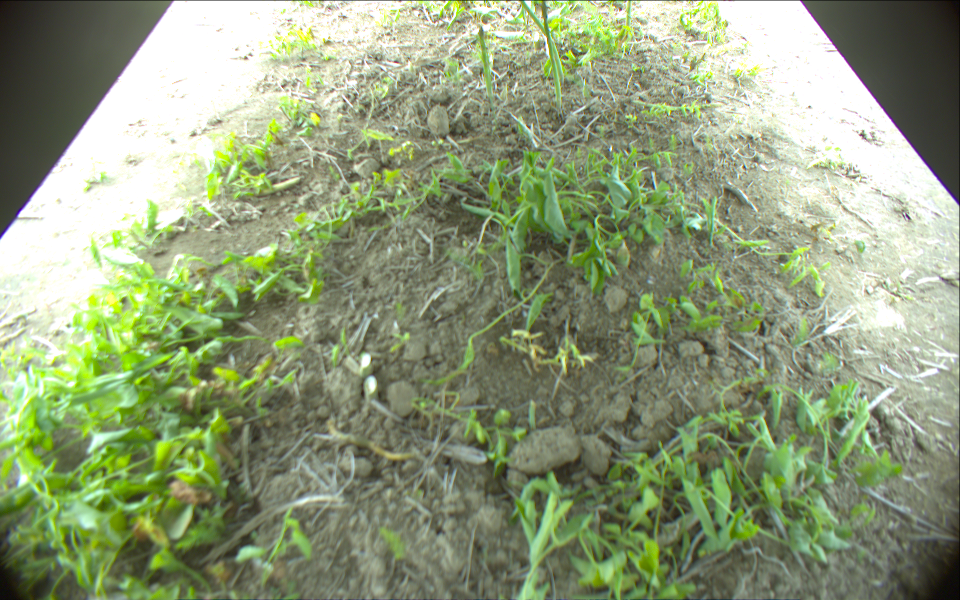aspa: (519, 1, 567, 82), (542, 1, 563, 105), (476, 28, 496, 97), (623, 1, 634, 31)
